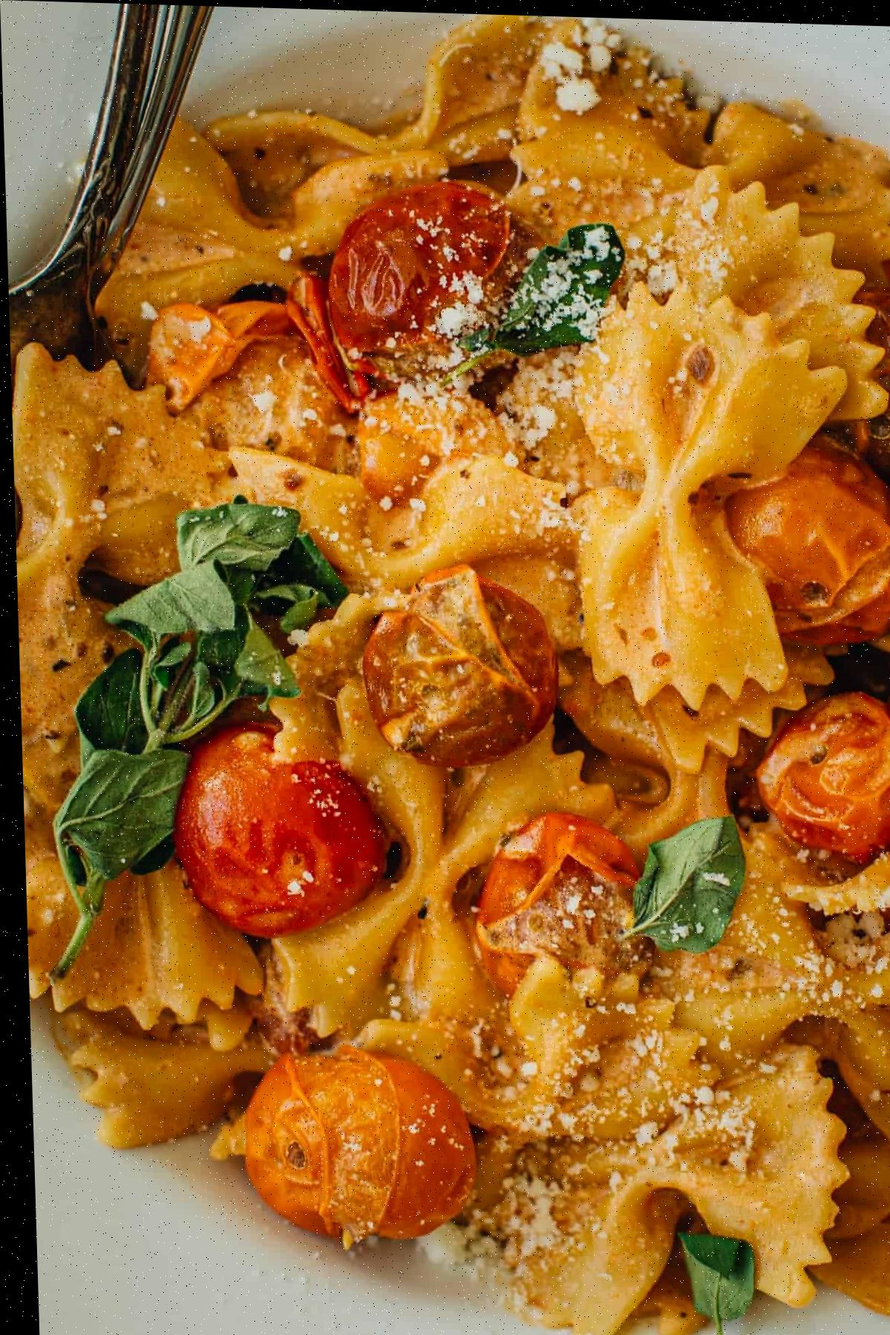pasta: (13, 14, 889, 1334)
